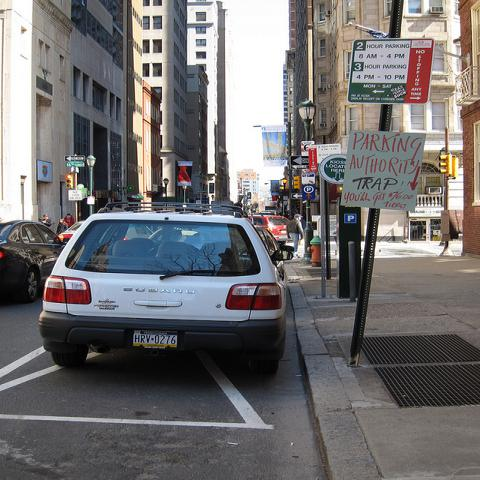car: (40, 214, 296, 379), (0, 218, 65, 305), (246, 213, 292, 242), (58, 220, 86, 245), (255, 227, 279, 256), (260, 211, 274, 214)
